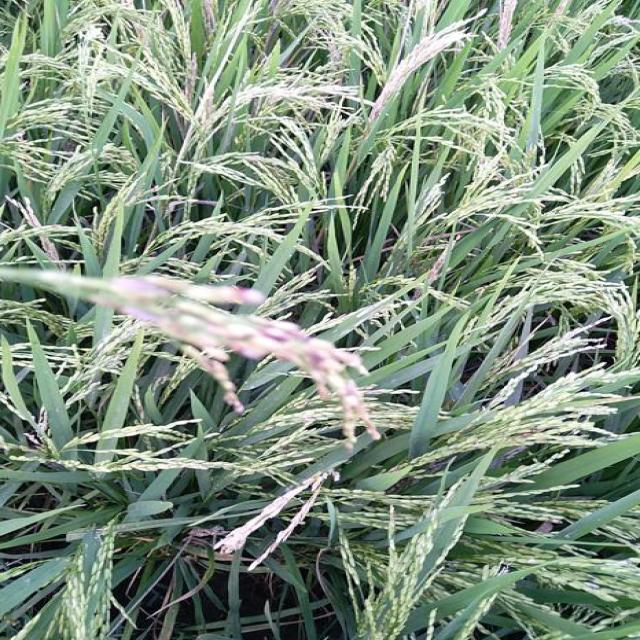Panicle Blight: (89, 277, 383, 440)
